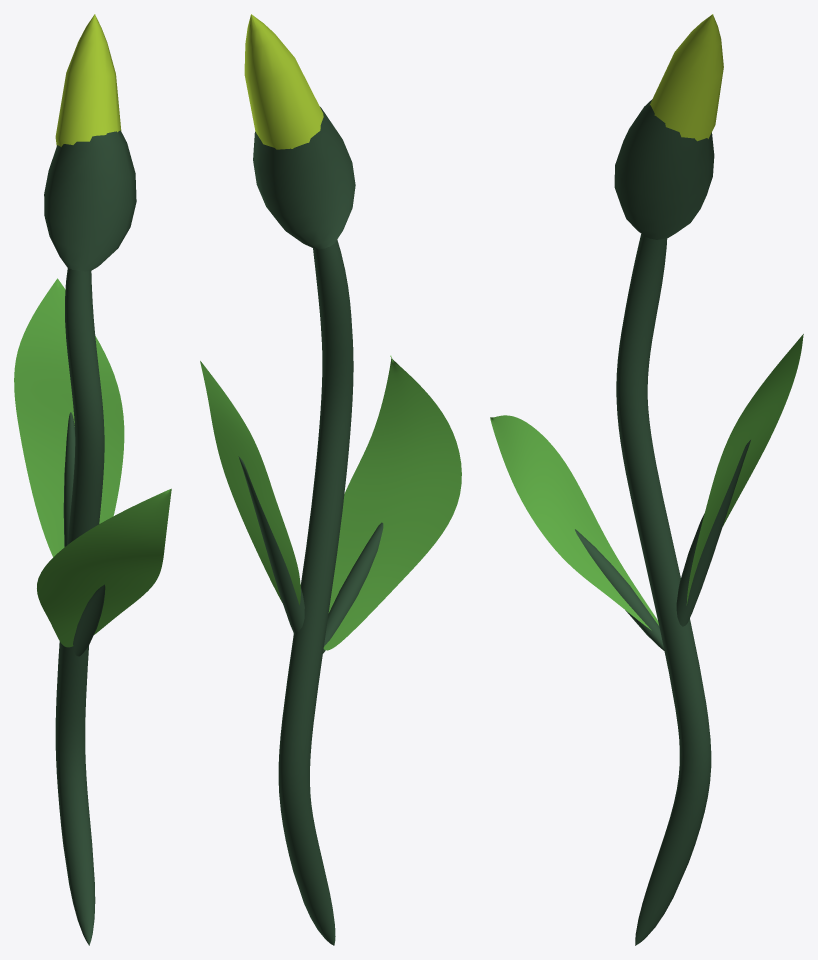
Rendered from plant012.glb.
The picture shows the model from 3 angles, left to right: view 1: azimuth 30°, elevation 25°; view 2: azimuth 150°, elevation 25°; view 3: azimuth 270°, elevation 25°; orthographic projection. The views are drawn at different scales.
Visible parts, largest first — view 1: s.0030, s.0046, s.0048, s.0045, s.0038, s.0044, s.0031; view 2: s.0030, s.0048, s.0045, s.0038, s.0046, s.0031, s.0044; view 3: s.0030, s.0048, s.0045, s.0038, s.0046, s.0031, s.0044.
Part boxes in pixels (bbox=[...]): s.0030: bbox=[55, 268, 104, 945]; s.0046: bbox=[14, 278, 124, 557]; s.0048: bbox=[37, 488, 171, 647]; s.0045: bbox=[44, 130, 136, 271]; s.0038: bbox=[55, 14, 121, 146]; s.0044: bbox=[73, 584, 105, 656]; s.0031: bbox=[63, 412, 75, 546]; s.0030: bbox=[278, 240, 353, 945]; s.0048: bbox=[323, 355, 461, 650]; s.0045: bbox=[253, 107, 355, 249]; s.0038: bbox=[244, 14, 323, 149]; s.0046: bbox=[200, 361, 300, 605]; s.0031: bbox=[238, 456, 304, 634]; s.0044: bbox=[323, 522, 383, 653]; s.0030: bbox=[616, 234, 711, 945]; s.0048: bbox=[490, 415, 658, 630]; s.0045: bbox=[614, 99, 714, 239]; s.0038: bbox=[650, 14, 723, 141]; s.0046: bbox=[686, 334, 803, 605]; s.0031: bbox=[676, 440, 750, 626]; s.0044: bbox=[575, 529, 664, 650].
Bounding box in the file's own units: 0.0428 × 0.2343 × 0.0698.
